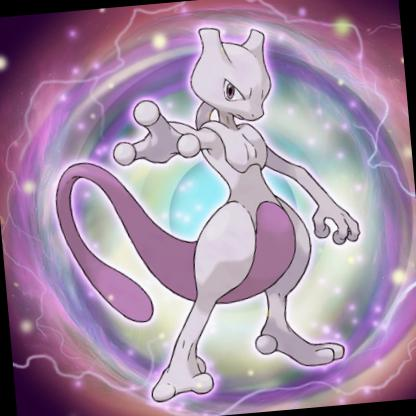Mewtwo: (1, 1, 416, 400)
